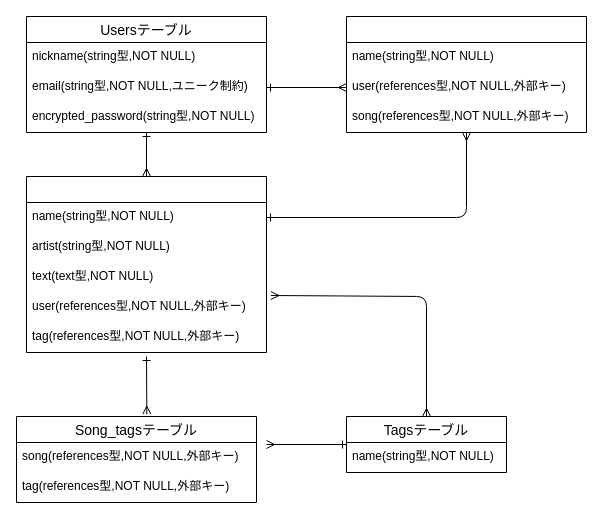
Some shapes in this 603 by 519 pixel diagram are drawn without their labels. Here are the shapes that lost their labels. From the top down, the box of each, then its label:
(346, 16, 586, 132): Playlistsテーブル
(26, 176, 266, 352): Songsテーブル
